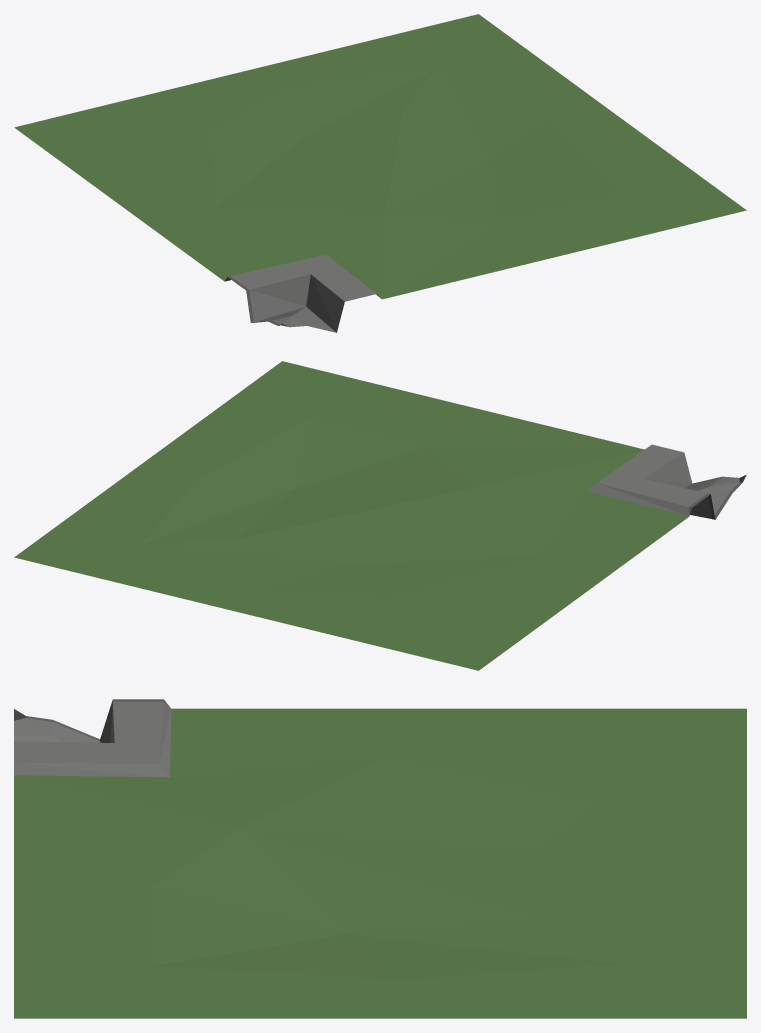
File: SM_Env_Sidewalk_Corner_End_03.fbx
The picture shows the model from 3 angles, top to bottom: view 1: azimuth 30°, elevation 25°; view 2: azimuth 150°, elevation 25°; view 3: azimuth 270°, elevation 25°; orthographic projection. The views are drawn at different scales.
Visible parts, largest first — view 1: SM_Env_Sidewalk_Corner_End_03; view 2: SM_Env_Sidewalk_Corner_End_03; view 3: SM_Env_Sidewalk_Corner_End_03.
Boxes of the visible parts, left/top/right/bottom form: SM_Env_Sidewalk_Corner_End_03: left=14, top=14, right=746, bottom=332; SM_Env_Sidewalk_Corner_End_03: left=14, top=361, right=746, bottom=670; SM_Env_Sidewalk_Corner_End_03: left=14, top=699, right=746, bottom=1018.
Size of the model in its own units: 500 by 30 by 500.
